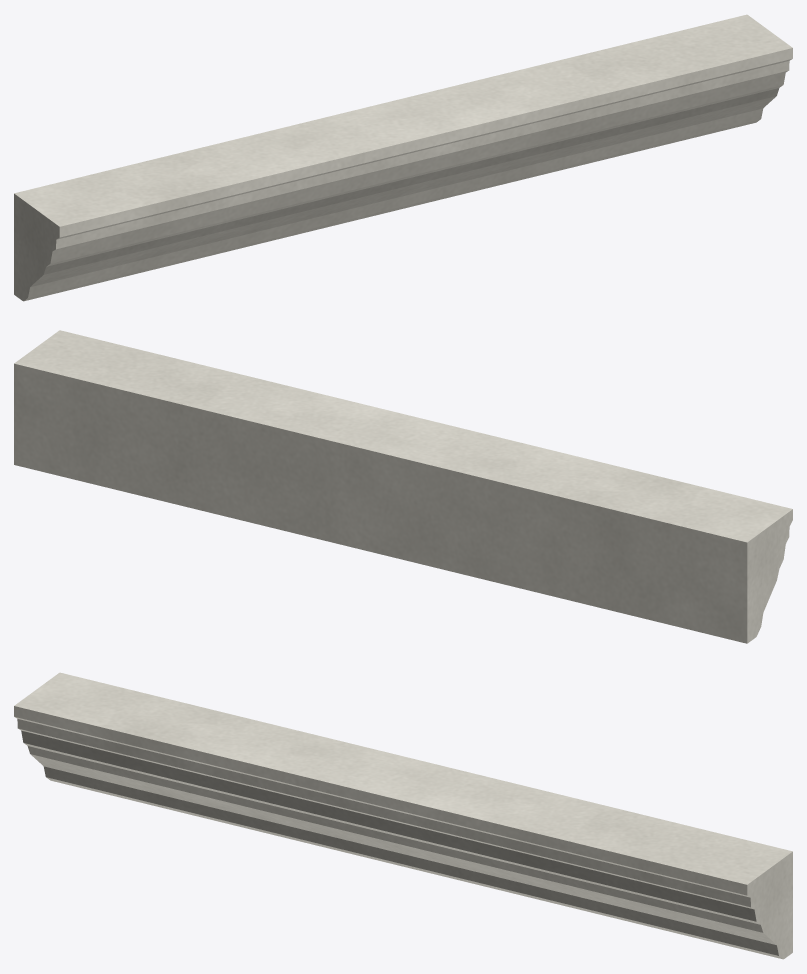
File: PZ_InteriorTrim_V07_Crown_1m.glb
3 renders of one model, top to bottom at view 1: azimuth 30°, elevation 25°; view 2: azimuth 150°, elevation 25°; view 3: azimuth 330°, elevation 25°, orthographic.
Parts seen in each view (by area): view 1: V07_Crown_1m__Crown_Moulding_Profile; view 2: V07_Crown_1m__Crown_Moulding_Profile; view 3: V07_Crown_1m__Crown_Moulding_Profile.
Boxes of the visible parts, x1,y1,x2,y2 form: V07_Crown_1m__Crown_Moulding_Profile: [14, 14, 792, 301]; V07_Crown_1m__Crown_Moulding_Profile: [14, 330, 792, 643]; V07_Crown_1m__Crown_Moulding_Profile: [14, 672, 792, 959].
Bounding box in the file's own units: 1 × 0.132 × 0.108.
1 material, 1 textured.
